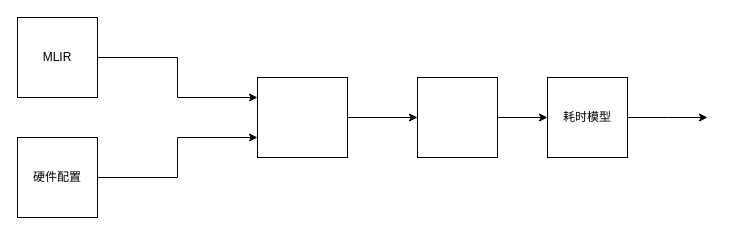
Image size: 733x235. Some labels were removed from this diagram. Each missing label, with the box of its shape:
特征提取: (256, 76, 348, 158)
特征编码: (416, 76, 498, 158)
